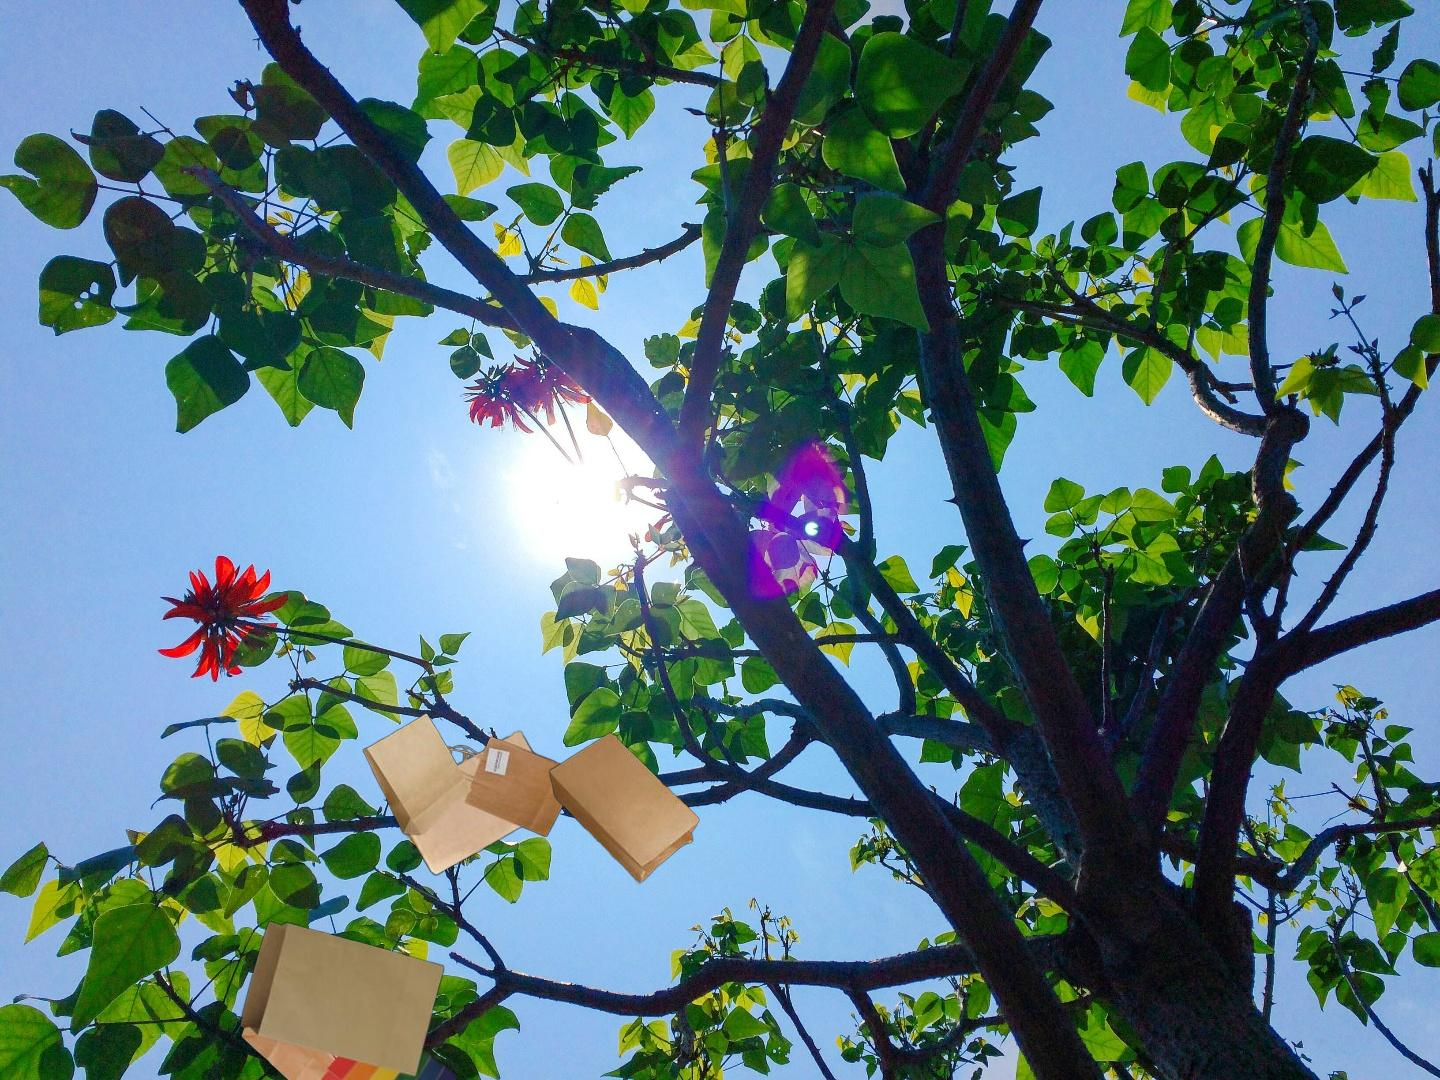paper-bag: (237, 916, 482, 1080), (361, 710, 582, 879), (547, 729, 701, 886)
